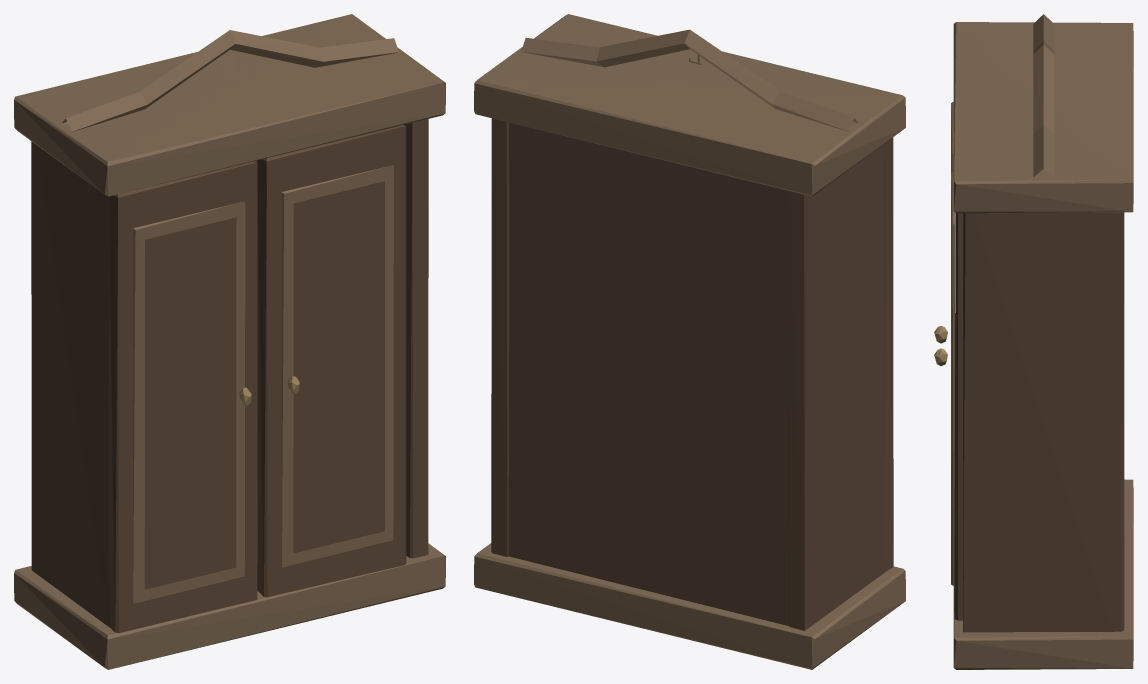
Rendered from wardrobe.glb.
3 renders of one model, left to right at view 1: azimuth 30°, elevation 25°; view 2: azimuth 150°, elevation 25°; view 3: azimuth 270°, elevation 25°, orthographic. The views are drawn at different scales.
Parts seen in each view (by area): view 1: wardrobe; view 2: wardrobe; view 3: wardrobe.
Boxes of the visible parts, left/top/right/bottom form: wardrobe: left=14, top=14, right=445, bottom=669; wardrobe: left=474, top=14, right=905, bottom=669; wardrobe: left=934, top=14, right=1133, bottom=669.
Size of the model in its own units: 1.63 by 2.64 by 0.8558.
